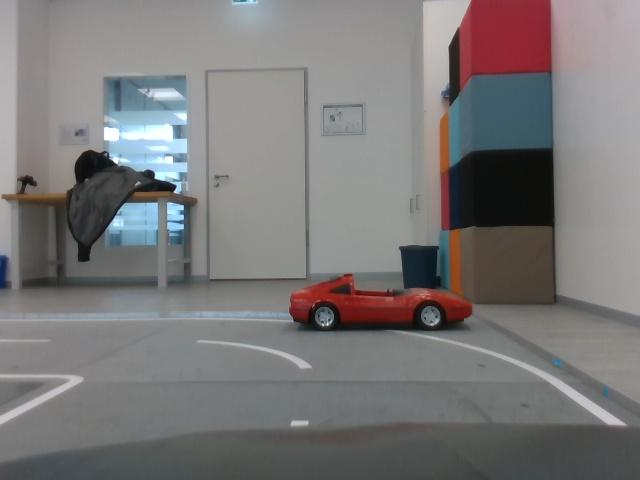car: (284, 271, 477, 335)
